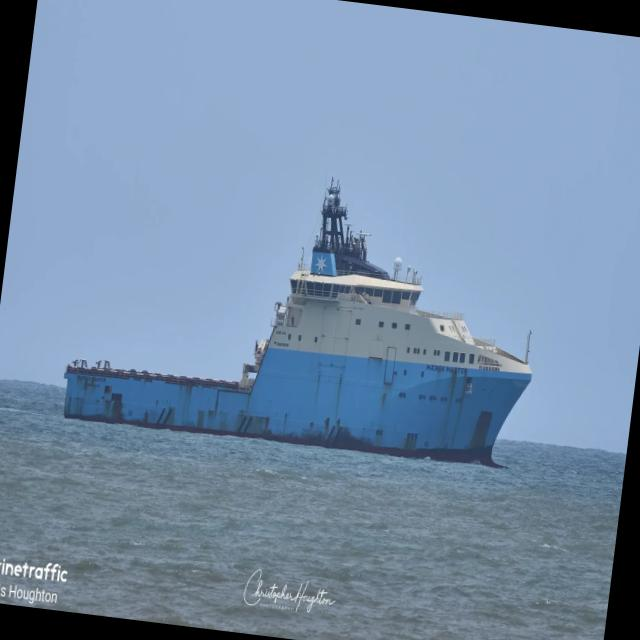Offshore: (64, 181, 531, 466)
